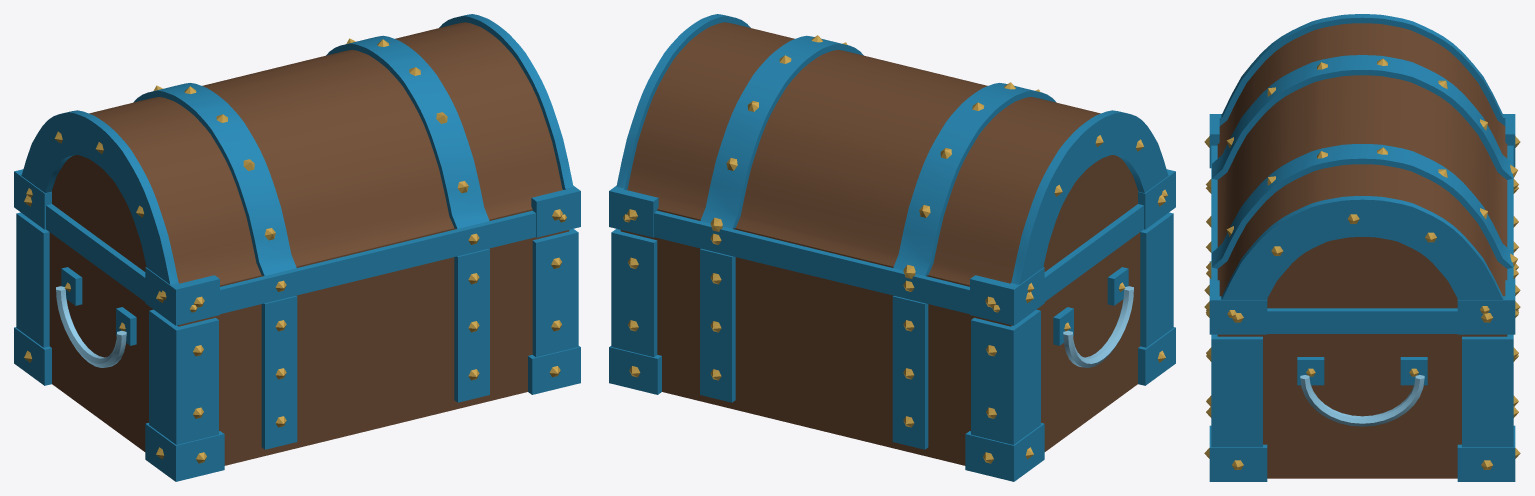
3 views of the same model, side by side, from view 1: azimuth 30°, elevation 25°; view 2: azimuth 150°, elevation 25°; view 3: azimuth 270°, elevation 25° (orthographic). The views are drawn at different scales.
Parts seen in each view (by area): view 1: movable, fixed; view 2: movable, fixed; view 3: movable, fixed.
Part boxes in pixels (box(x1,y1,x2,y2)): movable: box(14, 14, 580, 325); fixed: box(14, 212, 580, 481); movable: box(609, 14, 1175, 325); fixed: box(609, 212, 1175, 481); movable: box(1204, 14, 1520, 334); fixed: box(1204, 186, 1520, 481).
Size of the model in its own units: 0.5 by 0.3427 by 0.3439.
Materials: 1 (1 with a texture image).
